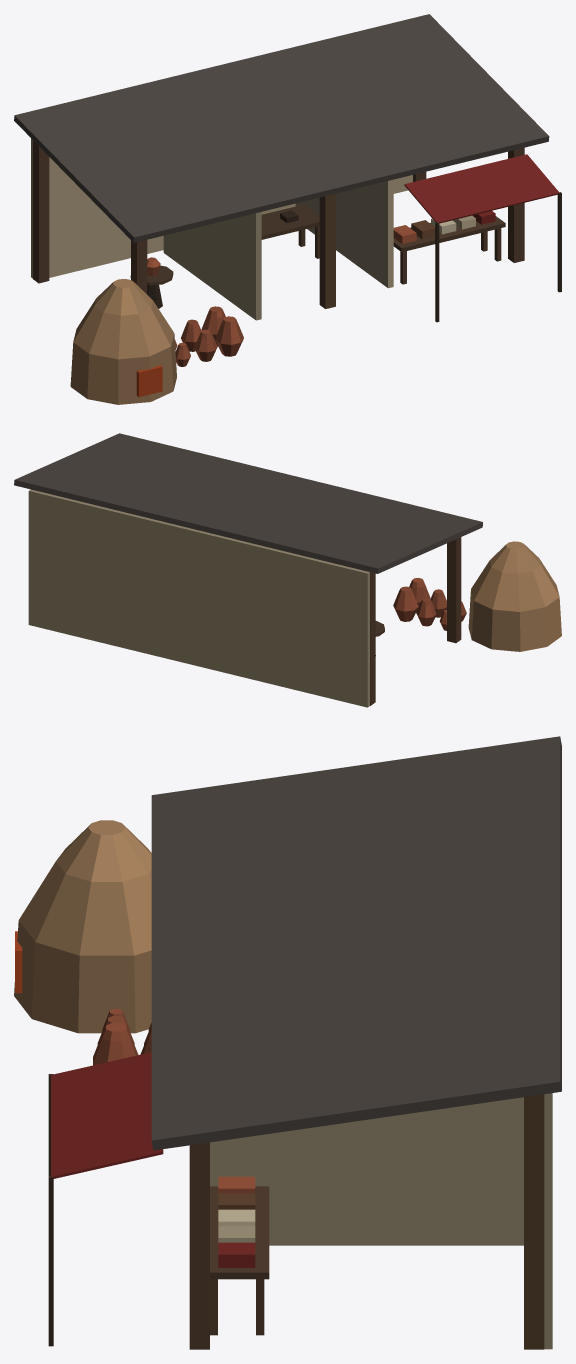
Rendered from walk_hallowed_artisan.glb.
3 renders of one model, top to bottom at view 1: azimuth 30°, elevation 25°; view 2: azimuth 150°, elevation 25°; view 3: azimuth 270°, elevation 25°, orthographic. The views are drawn at different scales.
Visible parts, largest first — view 1: walk_hallowed_artisan_roof, walk_hallowed_artisan; view 2: walk_hallowed_artisan, walk_hallowed_artisan_roof; view 3: walk_hallowed_artisan_roof, walk_hallowed_artisan.
Boxes of the visible parts, bbox=[...] form: walk_hallowed_artisan_roof: bbox=[14, 14, 549, 242]; walk_hallowed_artisan: bbox=[31, 138, 561, 404]; walk_hallowed_artisan: bbox=[28, 489, 561, 707]; walk_hallowed_artisan_roof: bbox=[14, 433, 482, 573]; walk_hallowed_artisan_roof: bbox=[151, 736, 561, 1150]; walk_hallowed_artisan: bbox=[14, 820, 552, 1349].
Size of what is drawn, in the model's own units: 10.25 by 3.32 by 5.9.
2 materials, 2 textured.
